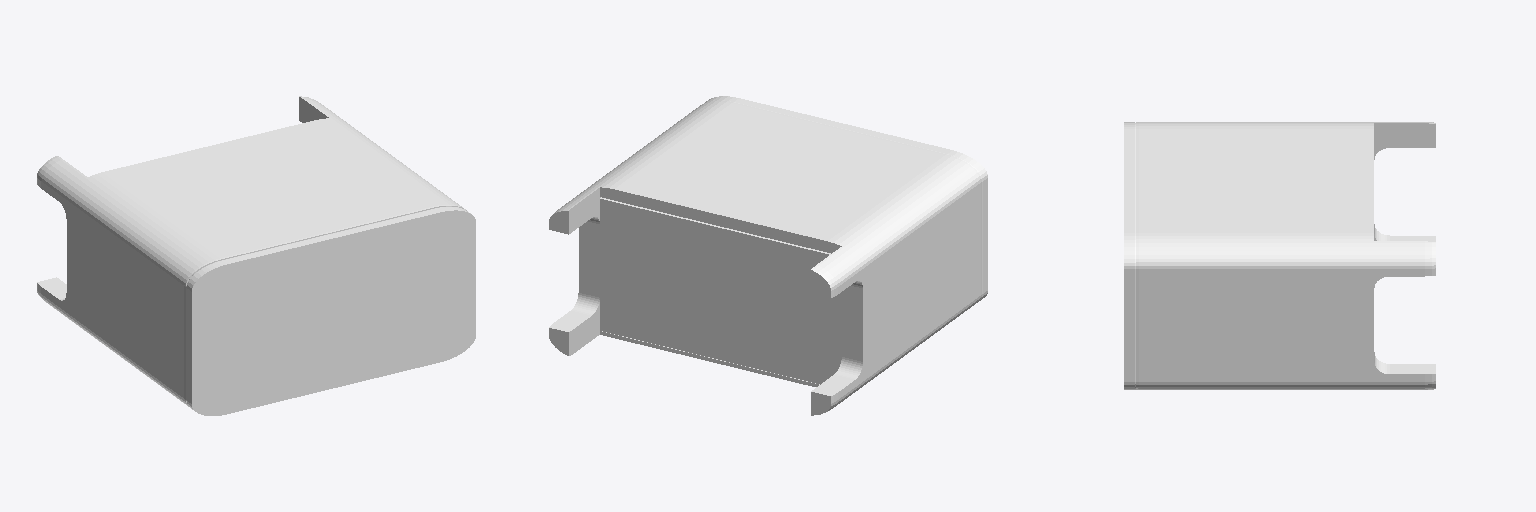
The model's file is busunge2drawers_white.obj.
The picture shows the model from 3 angles: view 1: azimuth 30°, elevation 25°; view 2: azimuth 150°, elevation 25°; view 3: azimuth 270°, elevation 25°; orthographic projection.
Parts seen in each view (by area): view 1: obj_0; view 2: obj_0; view 3: obj_0.
Boxes of the visible parts, x1,y1,x2,y2 form: obj_0: [37, 96, 475, 415]; obj_0: [549, 96, 987, 415]; obj_0: [1124, 122, 1435, 389].
Size of the model in its own units: 80 by 40.43 by 75.99.